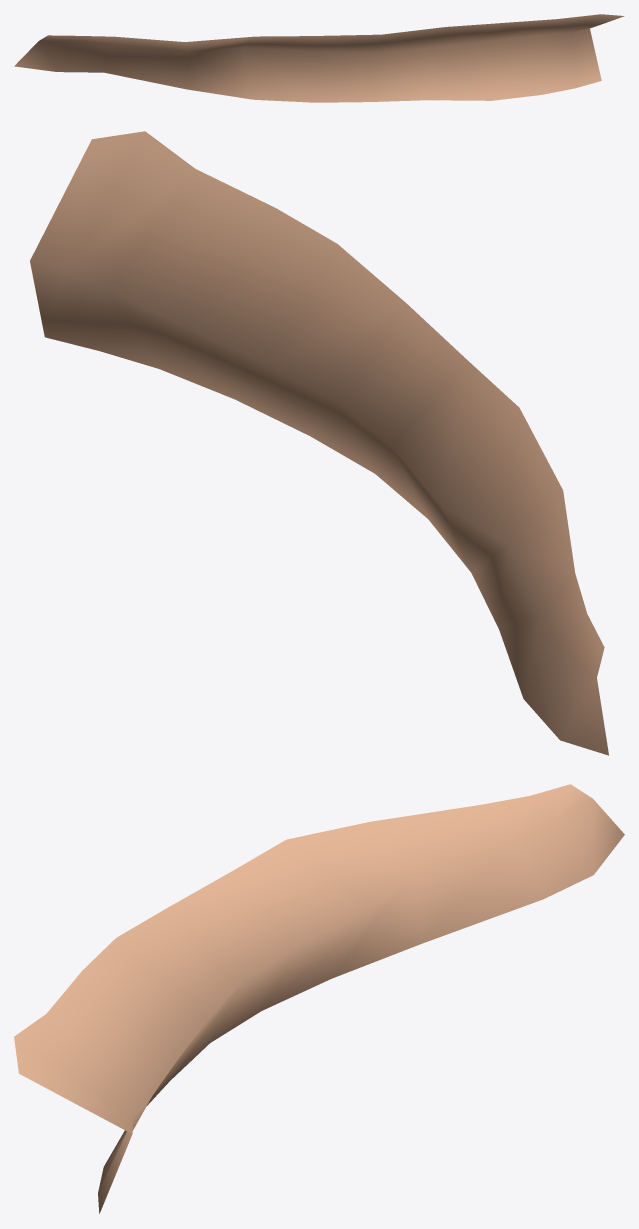
Rendered from labial-commissure-r.glb.
3 renders of one model, top to bottom at view 1: azimuth 30°, elevation 25°; view 2: azimuth 150°, elevation 25°; view 3: azimuth 270°, elevation 25°, orthographic. The views are drawn at different scales.
Parts seen in each view (by area): view 1: Labial commissure.r; view 2: Labial commissure.r; view 3: Labial commissure.r.
Boxes of the visible parts, x1,y1,x2,y2 form: Labial commissure.r: (14,14,624,102); Labial commissure.r: (30,131,608,755); Labial commissure.r: (14,784,624,1213).
Bounding box in the file's own units: 0.0247 × 0.00498 × 0.0175.
